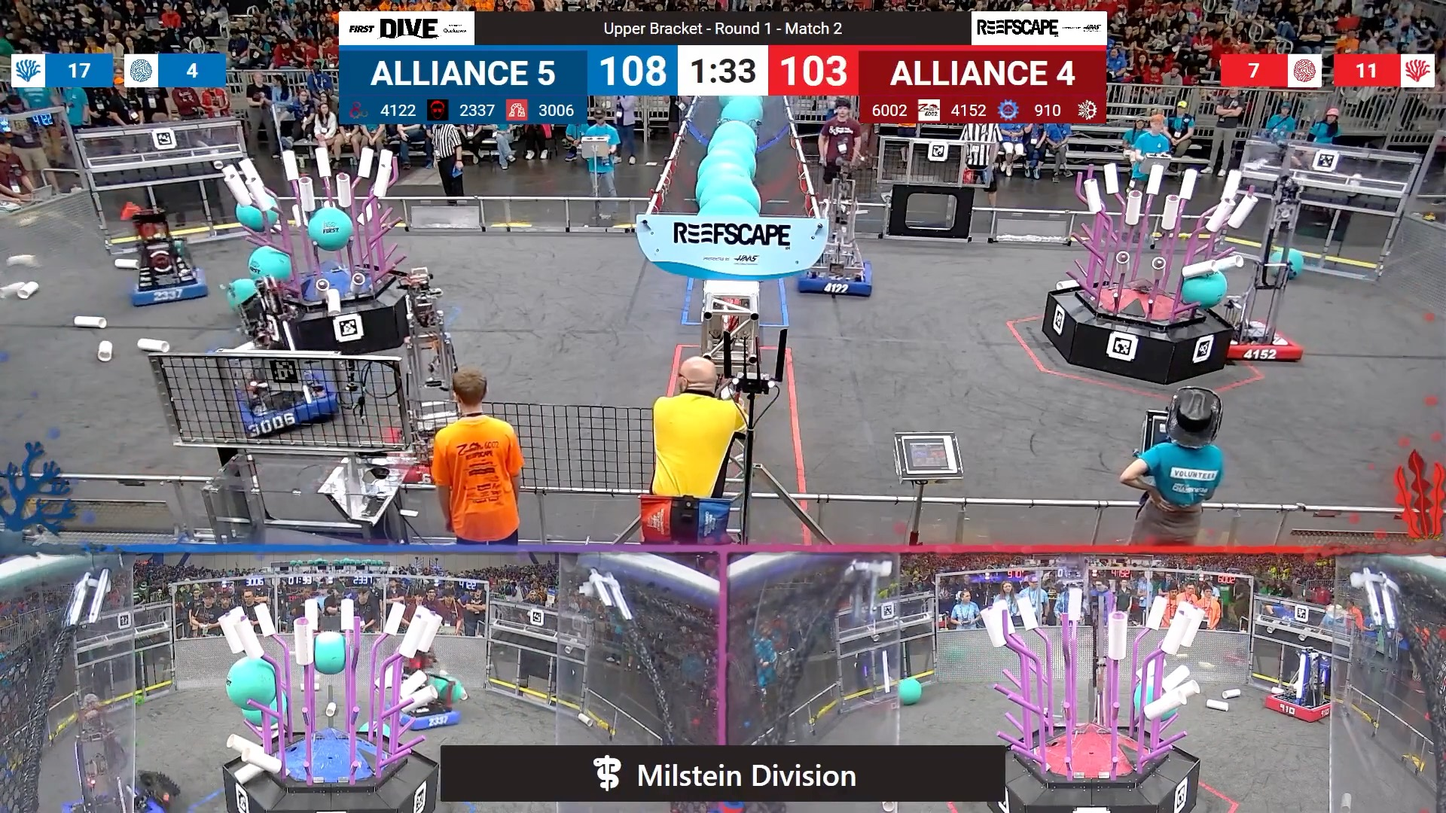bumpers: (230, 365, 346, 440), (378, 424, 452, 498), (1219, 318, 1308, 369), (123, 268, 214, 310), (789, 255, 877, 298), (53, 783, 178, 812), (383, 699, 465, 735), (1258, 692, 1342, 725)
